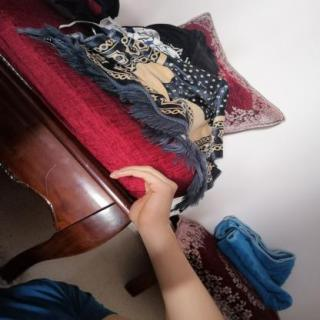HAA: (96, 153, 188, 234)
